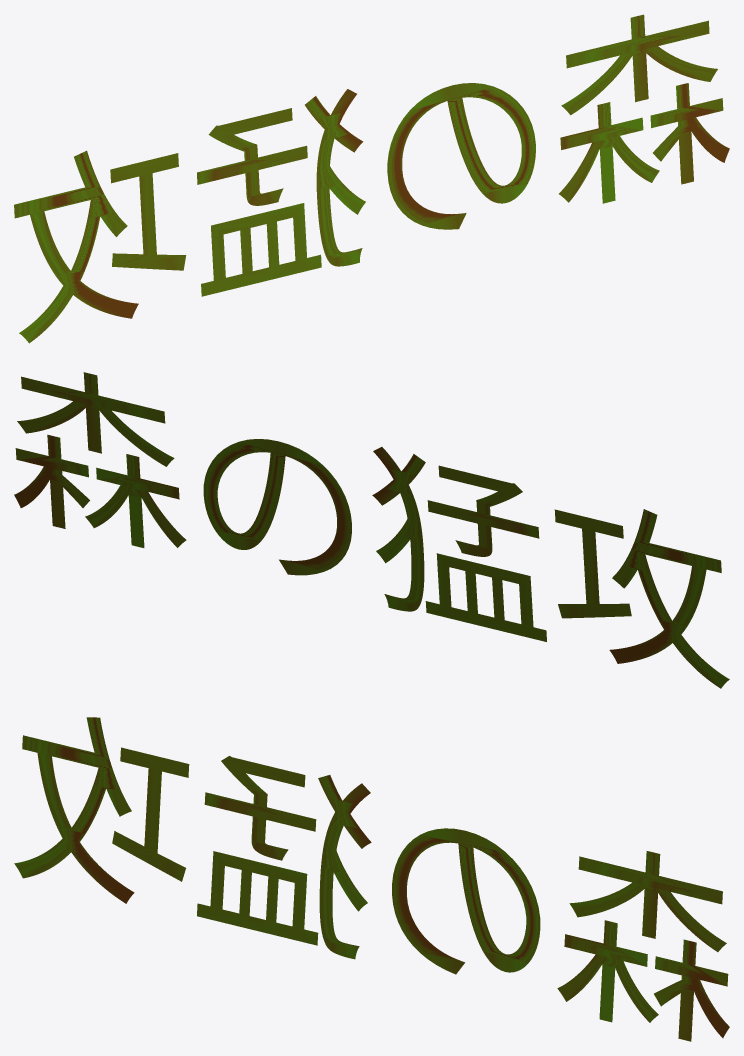
File: title.obj
The picture shows the model from 3 angles, top to bottom: view 1: azimuth 30°, elevation 25°; view 2: azimuth 150°, elevation 25°; view 3: azimuth 330°, elevation 25°; orthographic projection.
Parts seen in each view (by area): view 1: 森の猛攻; view 2: 森の猛攻; view 3: 森の猛攻.
Part boxes in pixels (<box>): 森の猛攻: <box>14,14,729,343</box>; 森の猛攻: <box>14,372,729,688</box>; 森の猛攻: <box>14,717,729,1041</box>.
Bounding box in the file's own units: 22.71 × 5.19 × 0.527.
1 material, 1 textured.
